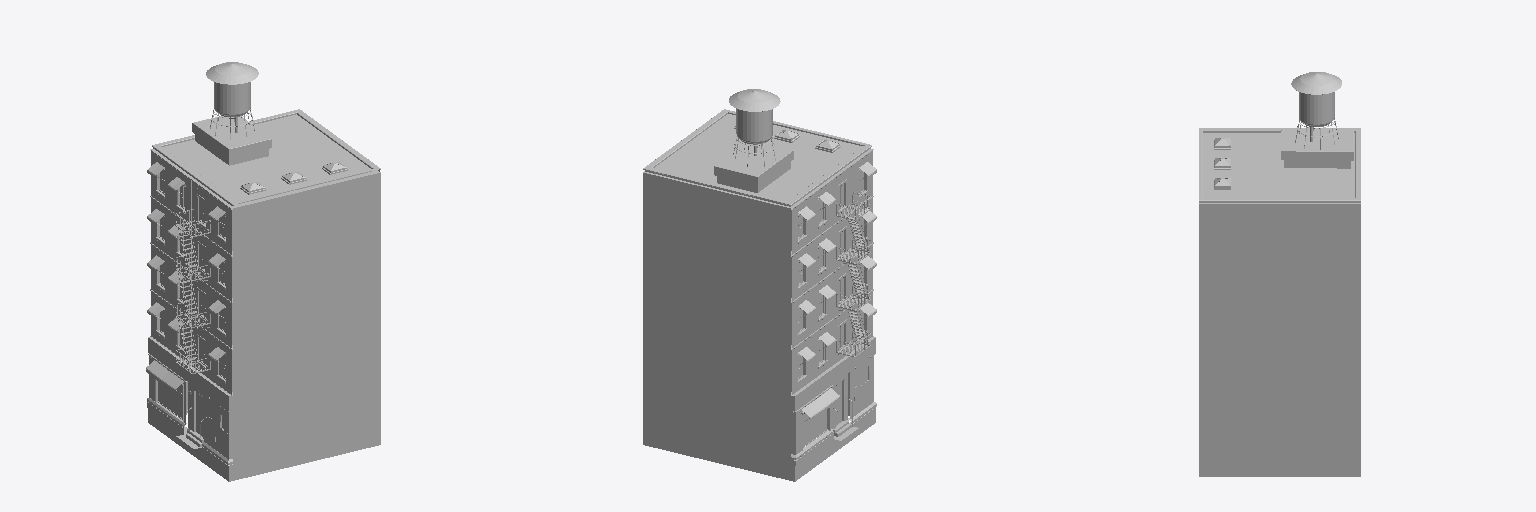
File: buildingFiveA1.obj
3 renders of one model, left to right at view 1: azimuth 30°, elevation 25°; view 2: azimuth 150°, elevation 25°; view 3: azimuth 270°, elevation 25°, orthographic.
Parts seen in each view (by area): view 1: building front __Comp9__2, building top __Comp9__5, building facade __Comp9__3 __Subdiv10__3 Allfloors floors window, building facade __Comp9__3 __Subdiv10__3 Allfloors __Repeat9__0 , building facade __Comp9__3 __Subdiv10__3 Allfloors floors __Repe, building facade __Comp9__3 __Subdiv10__1 downfloor __Subdiv1__0 , building facade __Comp9__3 __Subdiv10__1 downfloor __Subdiv1__2 , building facade __Comp9__3 __Subdiv1__0 downfloorwindow __Subdiv, building facade __Comp9__3 __Subdiv10__1 downfloor __Subdiv1__1 , building facade __Comp9__3 __Subdiv1__2 downfloorrest __Subdiv10; view 2: building sides __Comp9__0, building top __Comp9__5, building facade __Comp9__3 __Subdiv10__3 Allfloors floors window, building facade __Comp9__3 __Subdiv10__3 Allfloors __Repeat9__0 , building facade __Comp9__3 __Subdiv10__3 Allfloors floors __Repe, building facade __Comp9__3 __Subdiv10__1 downfloor __Subdiv1__0 , building facade __Comp9__3 __Subdiv10__1 downfloor __Subdiv1__2 , building facade __Comp9__3 __Subdiv1__0 downfloorwindow __Subdiv, building facade __Comp9__3 __Subdiv10__1 downfloor __Subdiv1__1 , building facade __Comp9__3 __Subdiv1__2 downfloorrest __Subdiv10; view 3: building sides __Comp9__1, building top __Comp9__5.
Boxes of the visible parts, x1,y1,x2,y2 form: building front __Comp9__2: [233, 173, 380, 480]; building top __Comp9__5: [152, 62, 380, 207]; building facade __Comp9__3 __Subdiv10__3 Allfloors floors window: [147, 149, 234, 348]; building facade __Comp9__3 __Subdiv10__3 Allfloors __Repeat9__0 : [147, 290, 232, 395]; building facade __Comp9__3 __Subdiv10__3 Allfloors floors __Repe: [175, 179, 211, 333]; building facade __Comp9__3 __Subdiv10__1 downfloor __Subdiv1__0 : [146, 354, 187, 433]; building facade __Comp9__3 __Subdiv10__1 downfloor __Subdiv1__2 : [202, 393, 243, 465]; building facade __Comp9__3 __Subdiv1__0 downfloorwindow __Subdiv: [148, 337, 186, 448]; building facade __Comp9__3 __Subdiv10__1 downfloor __Subdiv1__1 : [176, 382, 203, 448]; building facade __Comp9__3 __Subdiv1__2 downfloorrest __Subdiv10: [203, 377, 232, 481]; building sides __Comp9__0: [643, 173, 790, 480]; building top __Comp9__5: [643, 89, 871, 207]; building facade __Comp9__3 __Subdiv10__3 Allfloors floors window: [789, 149, 876, 348]; building facade __Comp9__3 __Subdiv10__3 Allfloors __Repeat9__0 : [791, 290, 876, 395]; building facade __Comp9__3 __Subdiv10__3 Allfloors floors __Repe: [832, 164, 871, 317]; building facade __Comp9__3 __Subdiv10__1 downfloor __Subdiv1__0 : [791, 385, 839, 465]; building facade __Comp9__3 __Subdiv10__1 downfloor __Subdiv1__2 : [848, 353, 876, 423]; building facade __Comp9__3 __Subdiv1__0 downfloorwindow __Subdiv: [791, 369, 831, 481]; building facade __Comp9__3 __Subdiv10__1 downfloor __Subdiv1__1 : [832, 373, 858, 440]; building facade __Comp9__3 __Subdiv1__2 downfloorrest __Subdiv10: [848, 337, 875, 440]; building sides __Comp9__1: [1199, 204, 1360, 476]; building top __Comp9__5: [1199, 72, 1360, 203].
Size of the model in its own units: 3598 by 7316 by 2998.